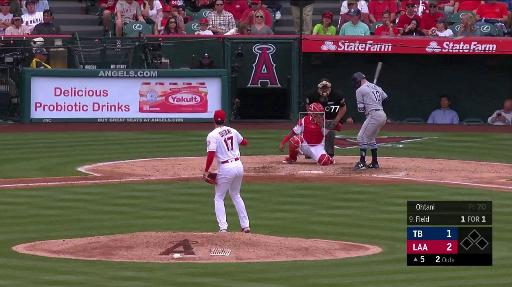pitcher: (201, 108, 255, 234)
